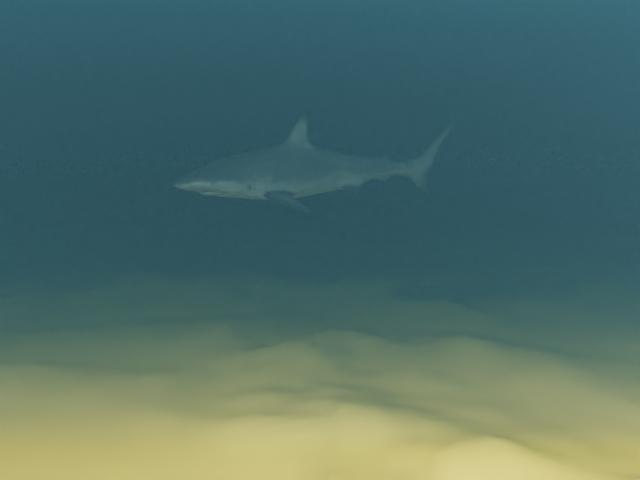Carribean Shark.001: (173, 113, 458, 212)
